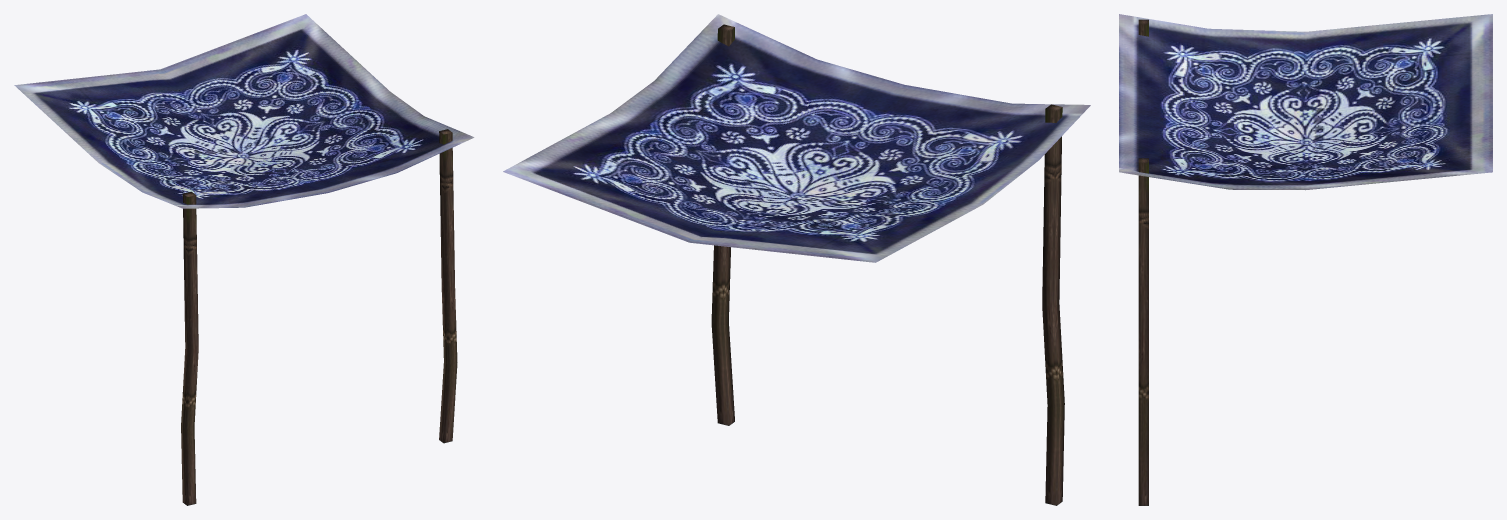
Rendered from SWDS_object_03.FBX.
3 renders of one model, left to right at view 1: azimuth 30°, elevation 25°; view 2: azimuth 150°, elevation 25°; view 3: azimuth 270°, elevation 25°, orthographic. The views are drawn at different scales.
Visible parts, largest first — view 1: SWDS_object_03; view 2: SWDS_object_03; view 3: SWDS_object_03.
Boxes of the visible parts, x1,y1,x2,y2 form: SWDS_object_03: [14, 14, 474, 505]; SWDS_object_03: [503, 14, 1090, 505]; SWDS_object_03: [1119, 14, 1492, 505].
Size of the model in its own units: 433 by 438 by 433.
